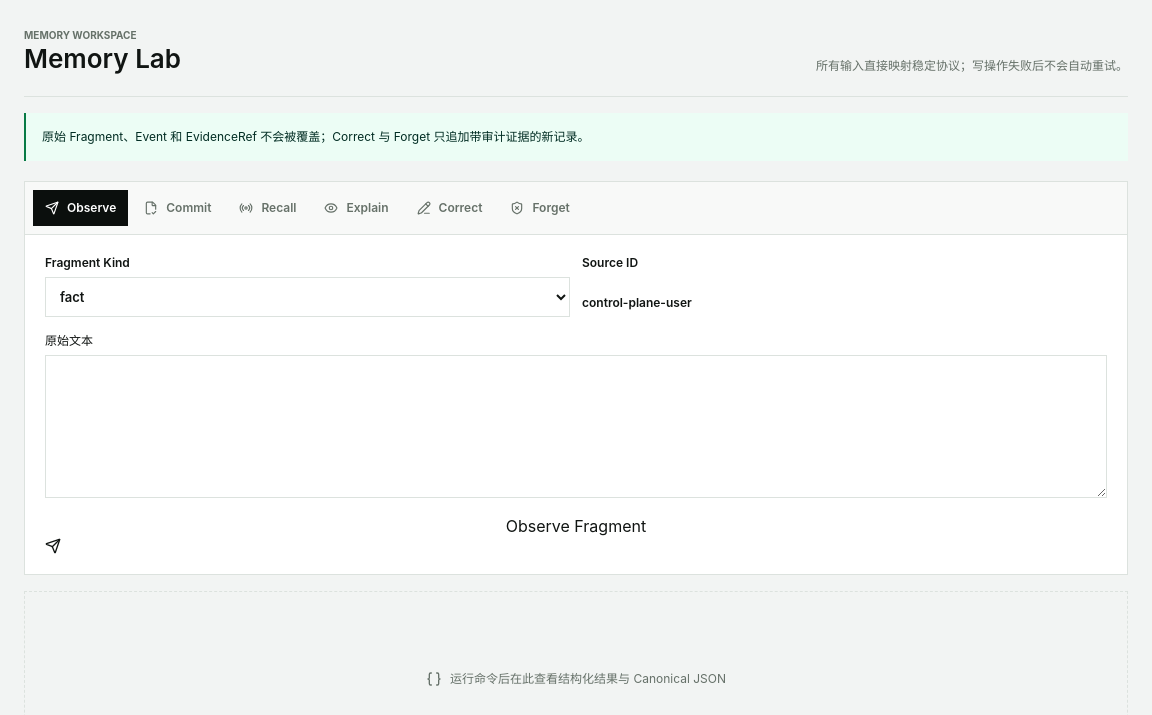
Test: Observe defaults to a recallable unverified Fact
The width and height of the screenshot is (1152, 715).
Expected: the dropdown labelled "Fragment Kind" shows "fact", [45,276,570,316]
Type "可被立即召回的事实" into the text box labelled "原始文本". click: x=576, y=426
box: [45,354,1107,498]
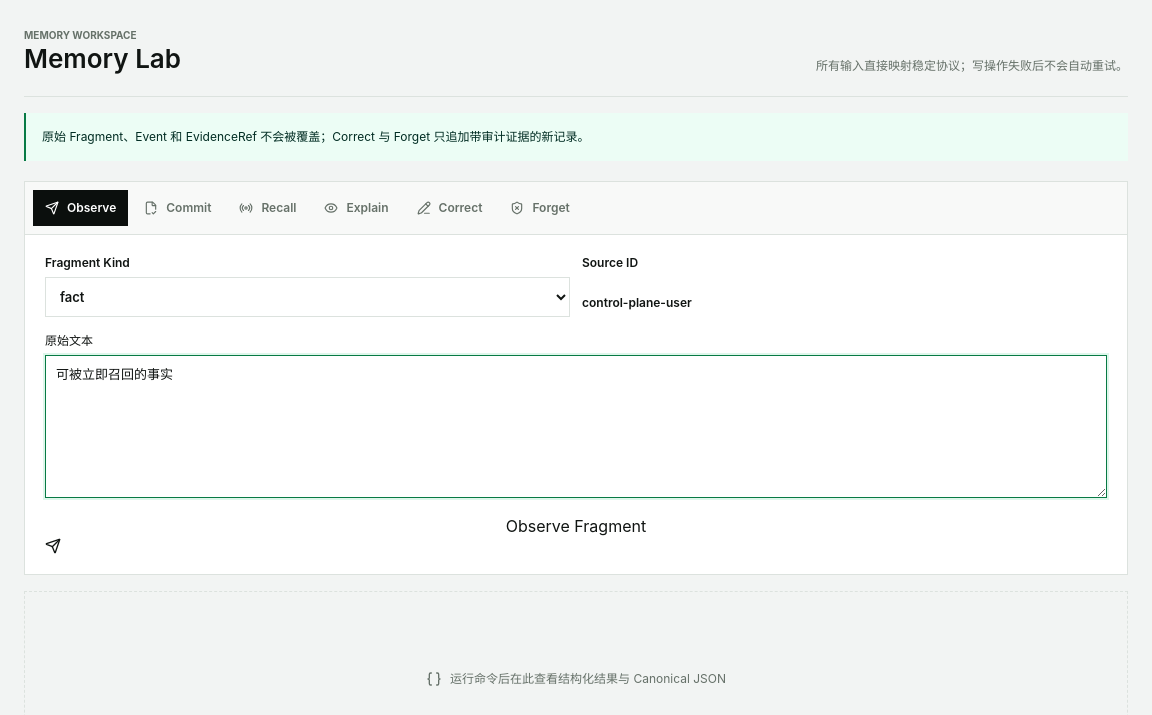
Click the button "Observe Fragment". click: x=576, y=534
box: [45,514,1107,554]
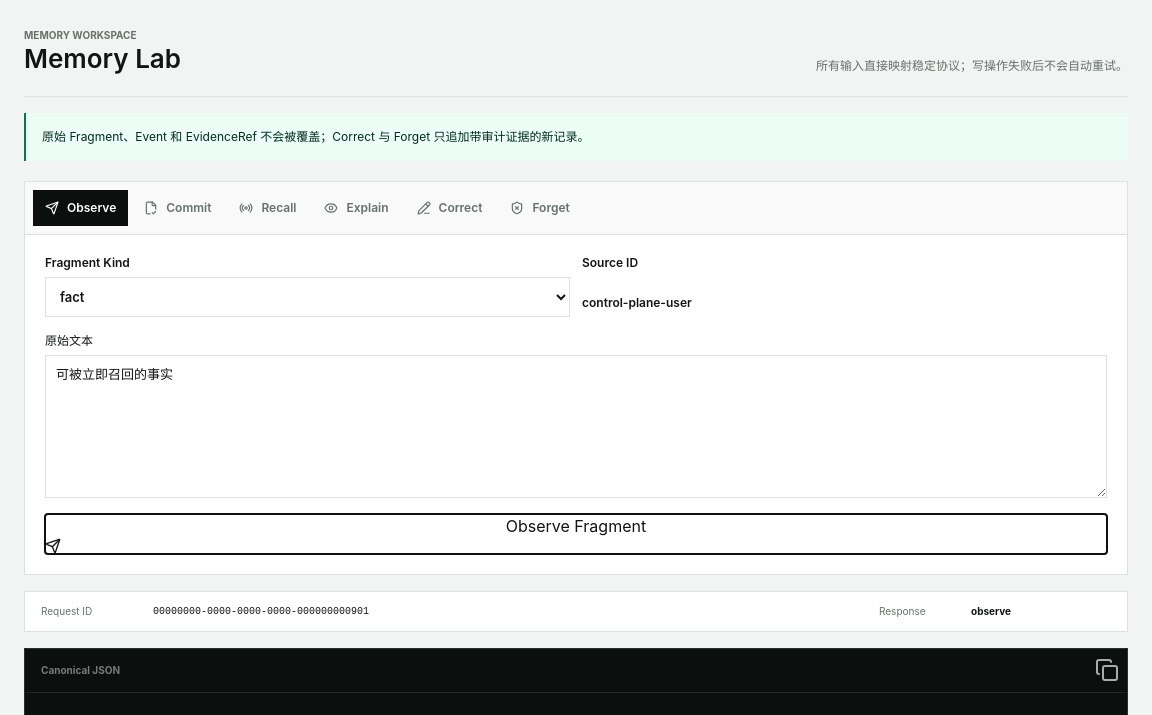
Expected: the text "observe" is shown, [971,605,1011,617]
